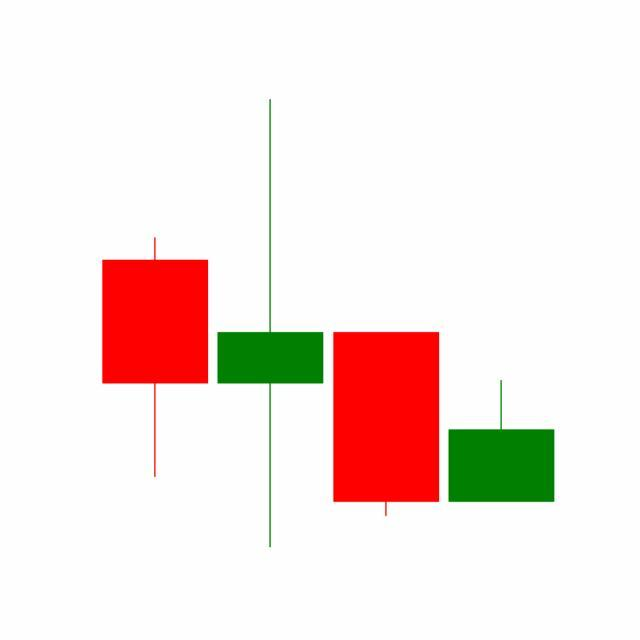Marubozu: (329, 330, 445, 519)
